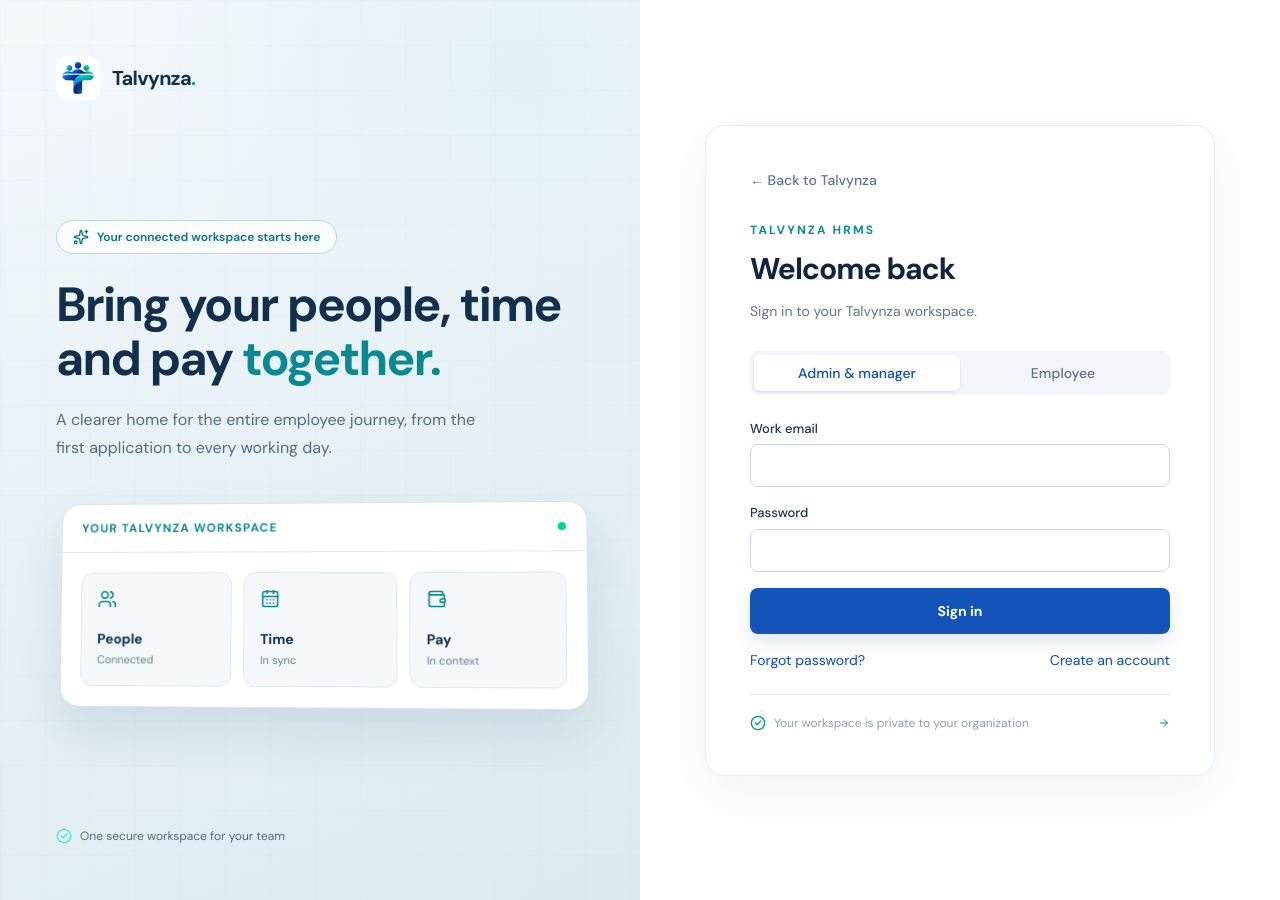
auth pages › shows field-level validation errors without calling the API
Click the button "Sign in" at (960, 610), box [750,588,1170,634]
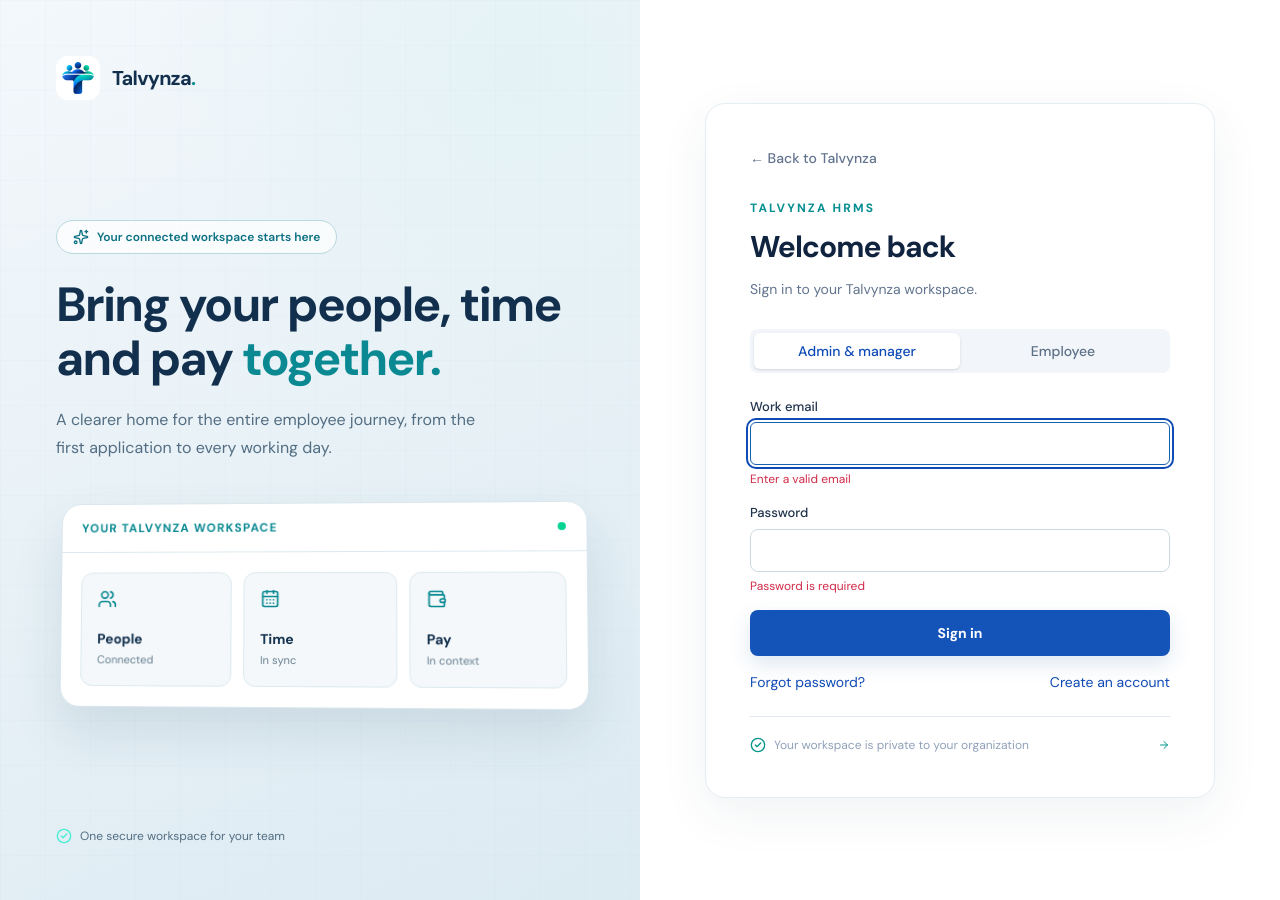
Now the text "Enter a valid email" is shown, box [750,471,851,487]
